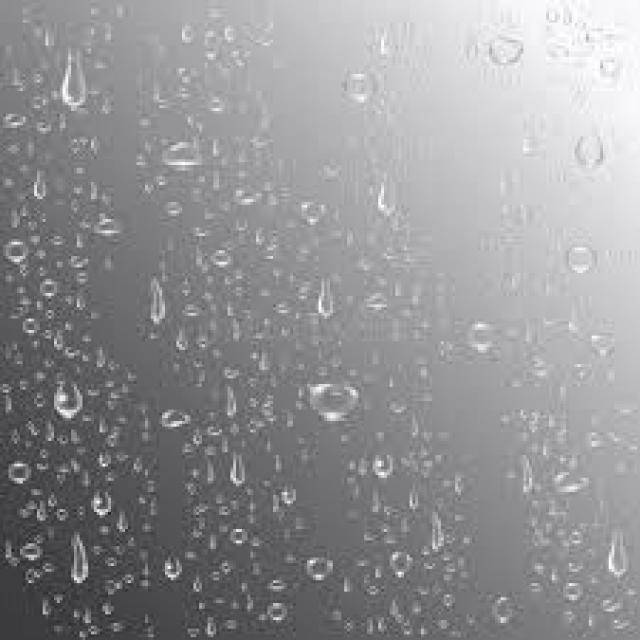raindrop: (298, 366, 372, 434), (54, 38, 94, 112), (40, 375, 93, 427), (158, 135, 214, 183), (58, 525, 95, 591), (557, 236, 605, 284), (482, 28, 534, 72), (368, 166, 408, 223), (456, 317, 504, 363), (80, 208, 138, 246), (600, 526, 636, 585), (383, 543, 428, 587), (572, 124, 609, 175), (550, 466, 603, 500), (146, 267, 174, 331), (337, 68, 380, 109), (150, 398, 196, 436), (312, 272, 344, 324), (362, 446, 403, 484), (0, 449, 37, 491), (298, 550, 344, 583), (85, 477, 121, 519), (0, 232, 36, 274), (256, 595, 296, 630), (200, 244, 238, 278), (298, 192, 332, 228), (223, 446, 250, 488), (494, 588, 516, 632), (160, 547, 184, 582), (230, 518, 256, 548)
